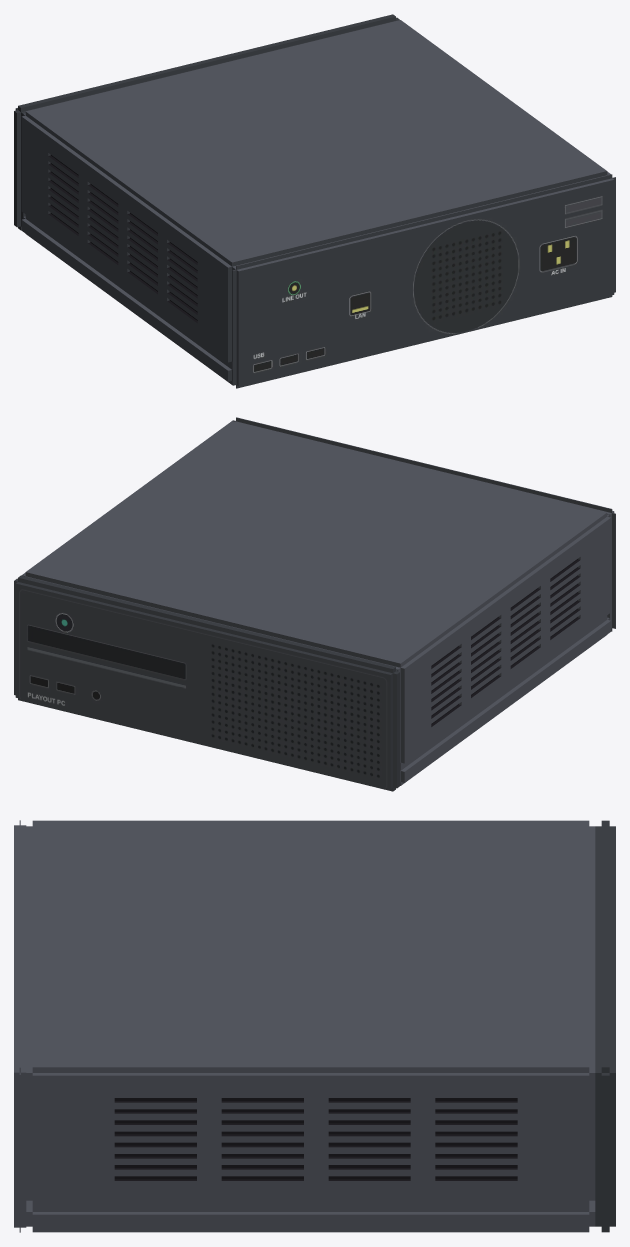
The model's file is playout-pc.glb.
3 views of the same model, one above another, from view 1: azimuth 30°, elevation 25°; view 2: azimuth 150°, elevation 25°; view 3: azimuth 270°, elevation 25° (orthographic). The views are drawn at different scales.
Parts seen in each view (by area): view 1: playout-pc-body; view 2: playout-pc-body; view 3: playout-pc-body.
Boxes of the visible parts, left/top/right/bottom form: playout-pc-body: left=14, top=14, right=615, bottom=388; playout-pc-body: left=14, top=417, right=615, bottom=791; playout-pc-body: left=14, top=820, right=615, bottom=1232.
Bounding box in the file's own units: 0.29 × 0.0926 × 0.2928.
Materials: 1 (1 with a texture image).
